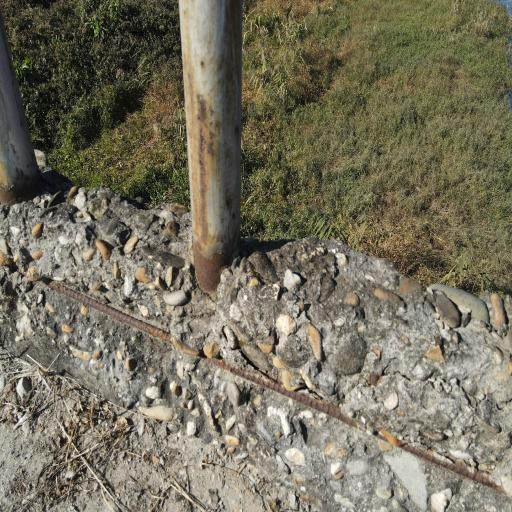exposed_rebar: (208, 359, 359, 427), (42, 277, 176, 345), (402, 444, 503, 494)
